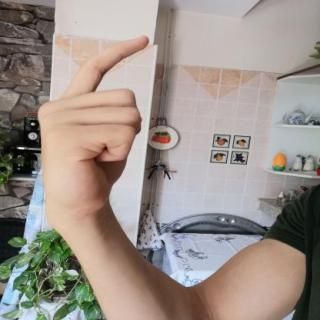RAA: (26, 25, 158, 234)
